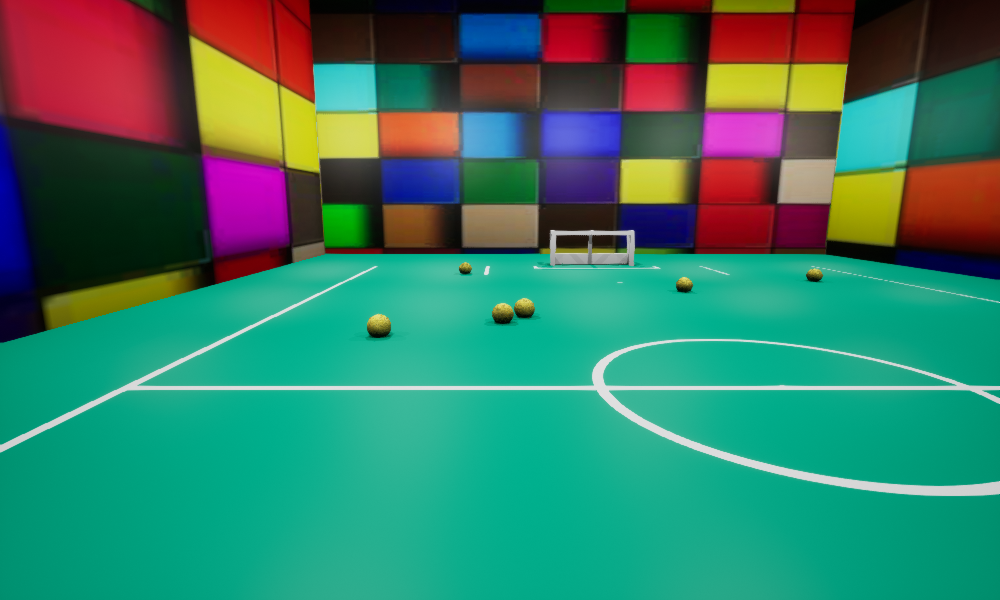b: (367, 314, 390, 336), (492, 303, 513, 323), (514, 298, 534, 317), (676, 277, 692, 291), (806, 268, 822, 281), (459, 262, 471, 273)
g: (550, 230, 634, 265)
